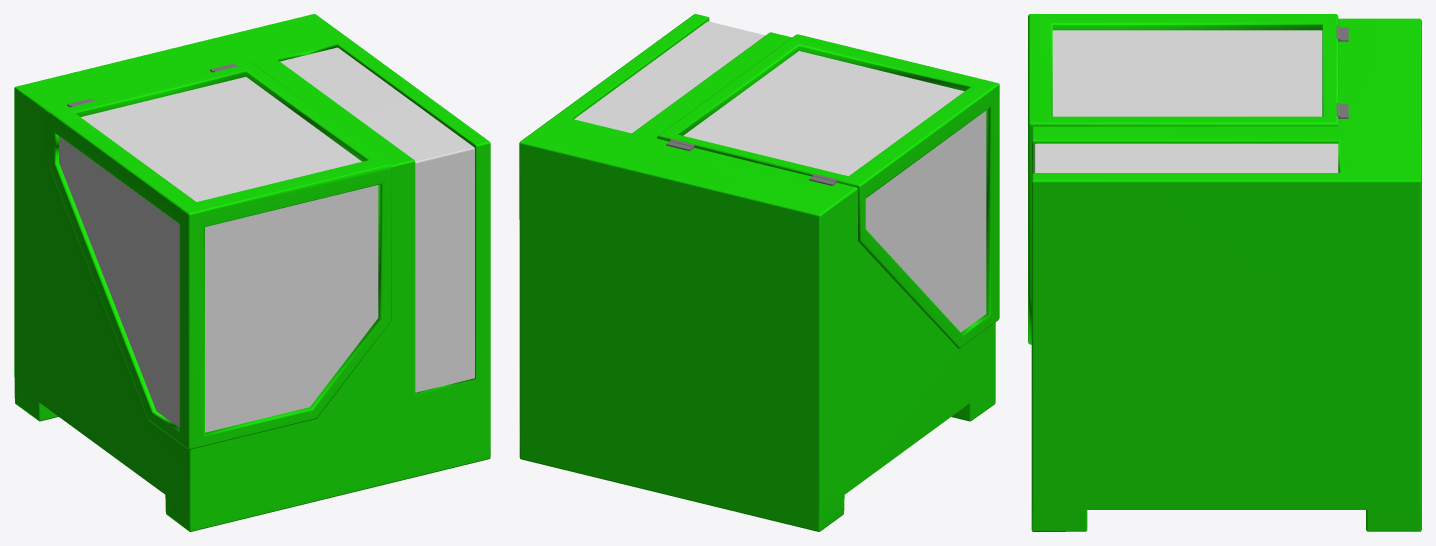
File: S_3DPrint.fbx
The picture shows the model from 3 angles, left to right: view 1: azimuth 30°, elevation 25°; view 2: azimuth 150°, elevation 25°; view 3: azimuth 270°, elevation 25°; orthographic projection. The views are drawn at different scales.
Visible parts, largest first — view 1: Cube.044; view 2: Cube.044; view 3: Cube.044.
Boxes of the visible parts, <box> form: Cube.044: <box>14,14,490,531</box>; Cube.044: <box>519,14,999,531</box>; Cube.044: <box>1028,14,1421,531</box>.
Bounding box in the file's own units: 89.94 × 90.74 × 91.12.
